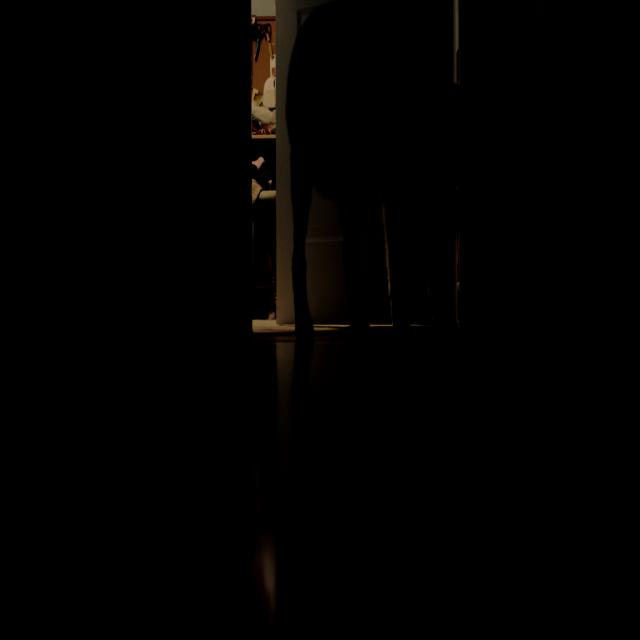Dog: (268, 0, 560, 341)
